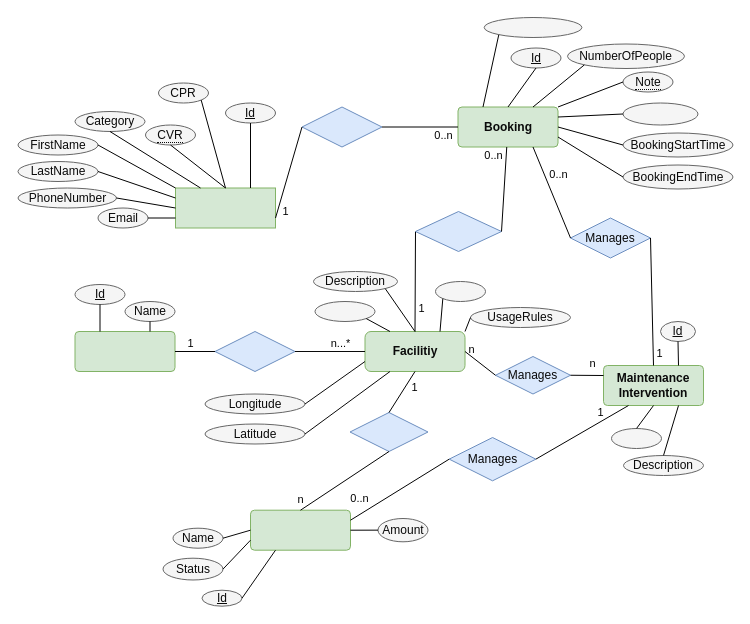
This 750x624 diagram has some shape labels left out. Here are the shapes that lost their labels. From the top down, the box of each, then its label:
(483, 16, 582, 38): CitizensCPR
(301, 106, 382, 147): Creates
(622, 102, 698, 125): Document
(174, 187, 276, 228): Citizen
(414, 210, 502, 252): Reserves-a
(314, 300, 375, 322): Activity
(434, 280, 486, 302): Kind
(74, 330, 175, 372): Municipality
(214, 330, 295, 372): Has
(349, 412, 428, 452): Contains
(610, 428, 662, 448): Date
(250, 509, 350, 550): Item
